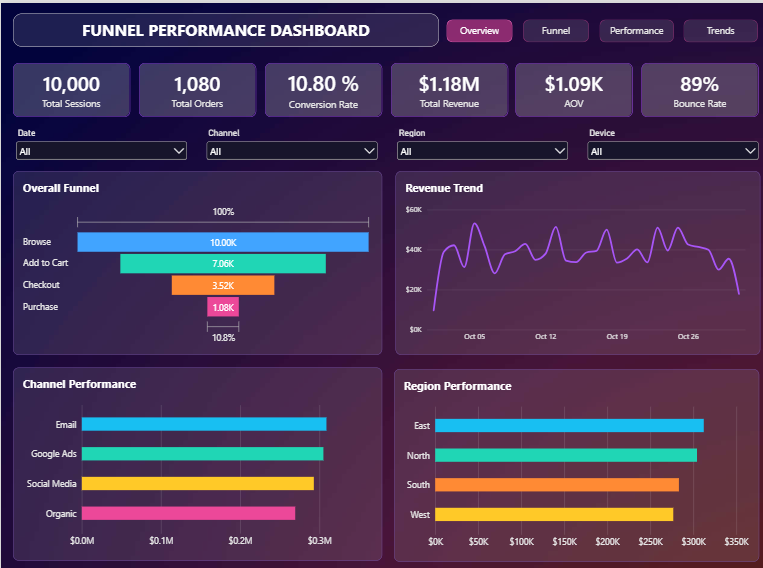

The dashboard page shown, as its layout file describes it:
{"tool":"powerbi","page":{"name":"Overview","canvas":[1280,950],"ordinal":0},"visuals":[{"type":"actionButton","box":[743.7,27.5,110,38],"z":0},{"type":"actionButton","box":[870.5,27.5,110,38],"z":1000},{"type":"actionButton","box":[997.3,27.4,124.1,38.2],"z":2000},{"type":"actionButton","box":[1138.2,27.5,124.1,38.2],"z":3000},{"type":"cardVisual","fields":{"Data":["_Measures.Total Sessions"]},"box":[20,100,195,90],"z":4000},{"type":"cardVisual","fields":{"Data":["_Measures.Total Orders"]},"box":[229.7,100,195,90],"z":5000},{"type":"cardVisual","fields":{"Data":["_Measures.Conversion Rate"]},"box":[439.3,100,195,90],"z":6000},{"type":"cardVisual","fields":{"Data":["_Measures.Total Revenue"]},"box":[649,100,195,90],"z":7000},{"type":"cardVisual","fields":{"Data":["_Measures.AOV"]},"box":[858.7,100,195,90],"z":8000},{"type":"cardVisual","fields":{"Data":["_Measures.Bounce Rate"]},"box":[1068.3,100,195,90],"z":9000},{"type":"textbox","box":[20,18.3,710,55],"z":10000},{"type":"slicer","fields":{"Values":["funnel_analysis_data.Date"]},"box":[20,206.7,295,55],"z":11000},{"type":"slicer","fields":{"Values":["funnel_analysis_data.Channel"]},"box":[337.2,206.7,295,55],"z":12000},{"type":"slicer","fields":{"Values":["funnel_analysis_data.Region"]},"box":[654.4,206.7,295,55],"z":13000},{"type":"slicer","fields":{"Values":["funnel_analysis_data.Device"]},"box":[971.7,206.7,295,55],"z":14000},{"type":"funnel","title":"Overall Funnel","fields":{"Category":["funnel_analysis_data.Event"],"Y":["Count(funnel_analysis_data.Session_ID)"]},"box":[20,280.1,615,306.7],"z":15000},{"type":"lineChart","title":"Revenue Trend","fields":{"Category":["funnel_analysis_data.Date.Variation.Date Hierarchy.Year","funnel_analysis_data.Date.Variation.Date Hierarchy.Quarter","funnel_analysis_data.Date.Variation.Date Hierarchy.Month","funnel_analysis_data.Date.Variation.Date Hierarchy.Day"],"Y":["_Measures.Total Revenue"]},"box":[656.7,280,607.8,306.7],"z":16000},{"type":"clusteredBarChart","title":"Channel Performance","fields":{"Category":["funnel_analysis_data.Channel"],"Y":["_Measures.Total Revenue"]},"box":[20,608.3,615,321.7],"z":17000},{"type":"clusteredBarChart","title":"Region Performance","fields":{"Category":["funnel_analysis_data.Region"],"Y":["_Measures.Total Revenue"]},"box":[655.6,608.9,608.9,321.1],"z":18000}]}

Visuals, with their boxes in screenshot pixels (x1, y1, x2, y2), scaled from the page's 1280x950 canvas onto the 763x568 screenshot:
actionButton: <box>443,16,509,39</box>
actionButton: <box>519,16,584,39</box>
actionButton: <box>594,16,668,39</box>
actionButton: <box>678,16,752,39</box>
cardVisual - _Measures.Total Sessions: <box>12,60,128,114</box>
cardVisual - _Measures.Total Orders: <box>137,60,253,114</box>
cardVisual - _Measures.Conversion Rate: <box>262,60,378,114</box>
cardVisual - _Measures.Total Revenue: <box>387,60,503,114</box>
cardVisual - _Measures.AOV: <box>512,60,628,114</box>
cardVisual - _Measures.Bounce Rate: <box>637,60,753,114</box>
textbox: <box>12,11,435,44</box>
slicer - funnel_analysis_data.Date: <box>12,124,188,156</box>
slicer - funnel_analysis_data.Channel: <box>201,124,377,156</box>
slicer - funnel_analysis_data.Region: <box>390,124,566,156</box>
slicer - funnel_analysis_data.Device: <box>579,124,755,156</box>
"Overall Funnel" funnel: <box>12,167,379,351</box>
"Revenue Trend" lineChart: <box>391,167,754,351</box>
"Channel Performance" clusteredBarChart: <box>12,364,379,556</box>
"Region Performance" clusteredBarChart: <box>391,364,754,556</box>
